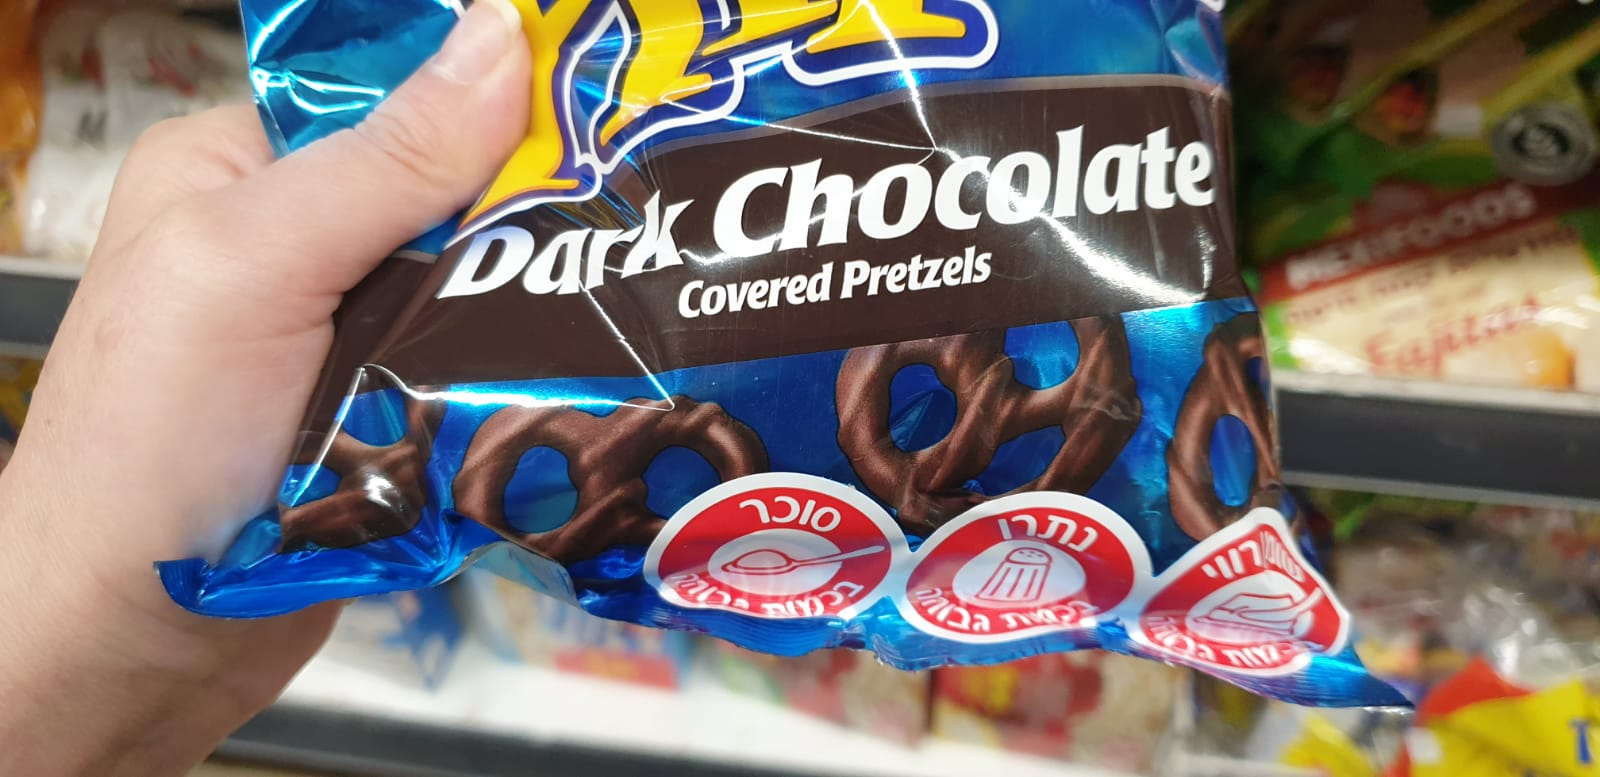fat: (1128, 509, 1353, 676)
salt: (897, 490, 1140, 645)
sugar: (641, 470, 902, 619)
